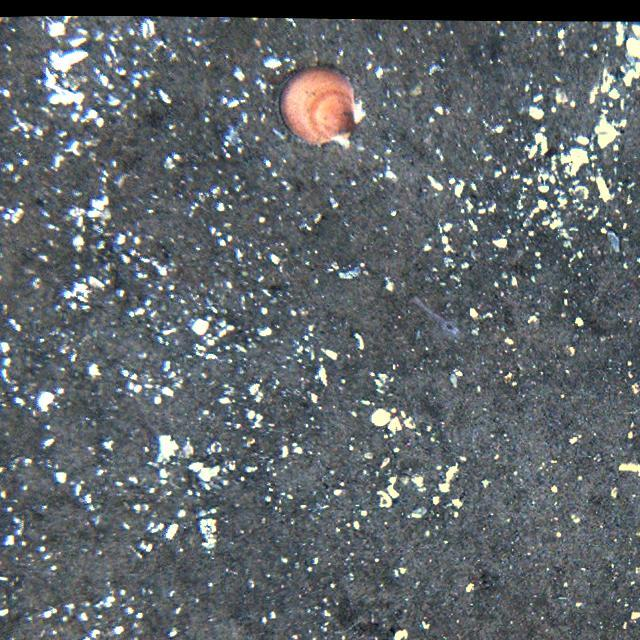scallop: (274, 61, 369, 148)
